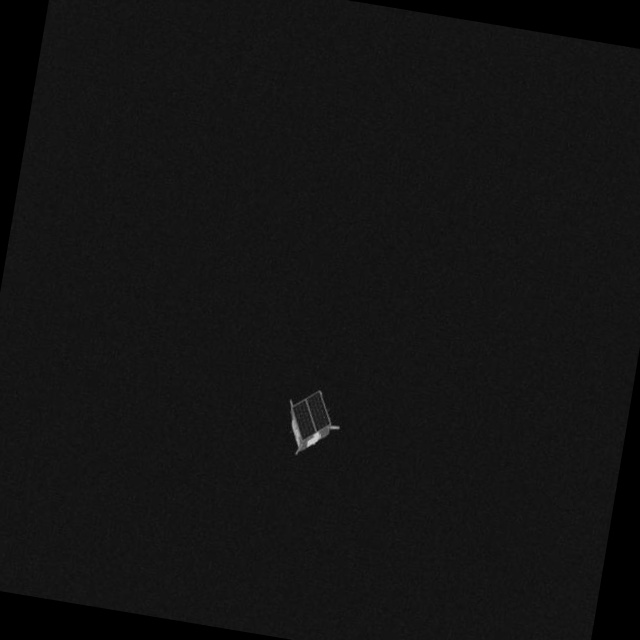medium_debris: (282, 382, 349, 463)
